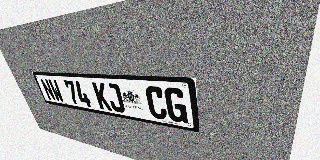4: (73, 81, 92, 107)
7: (63, 80, 82, 106)
C: (144, 86, 168, 120)
G: (164, 87, 188, 124)
J: (104, 83, 126, 113)
K: (92, 82, 112, 111)
N: (40, 79, 57, 101)
W: (47, 79, 65, 103)
